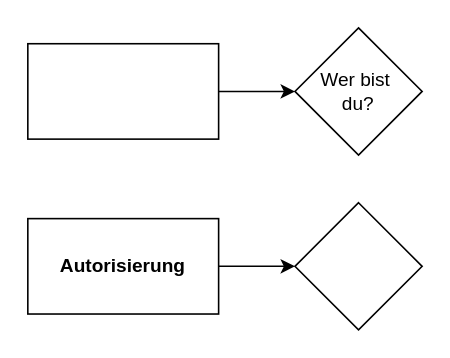
Some shapes in this 450 by 358 pixel diagram are drawn without their labels. Each missing label, with the centre of its shape:
"Authentifizierung" goes at point 122,90.
"Was darfst du?" goes at point 357,265.
